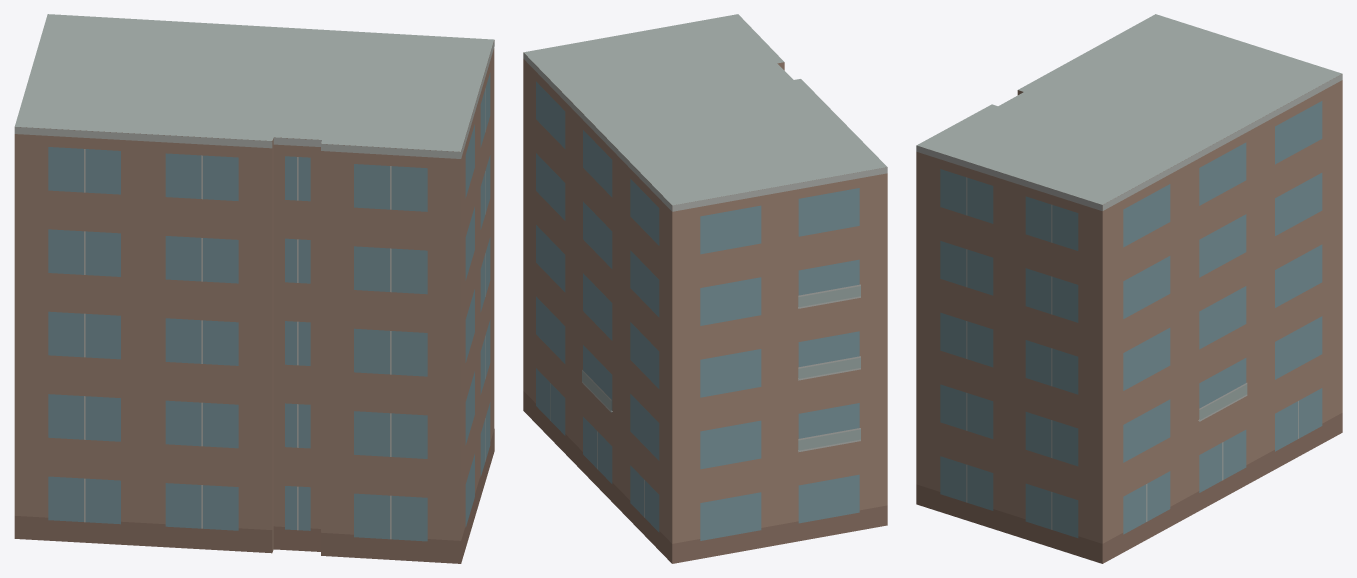
The model's file is survey-upis-32846929.glb.
3 renders of one model, left to right at view 1: azimuth 30°, elevation 25°; view 2: azimuth 150°, elevation 25°; view 3: azimuth 270°, elevation 25°, orthographic. The views are drawn at different scales.
Parts seen in each view (by area): view 1: survey-upis-32846929.tmp; view 2: survey-upis-32846929.tmp; view 3: survey-upis-32846929.tmp.
Boxes of the visible parts, x1=… form: survey-upis-32846929.tmp: x1=14, y1=14, x2=494, y2=563; survey-upis-32846929.tmp: x1=523, y1=14, x2=887, y2=563; survey-upis-32846929.tmp: x1=916, y1=14, x2=1342, y2=563.
Size of the model in its own units: 15.87 by 13.9 by 14.96.
